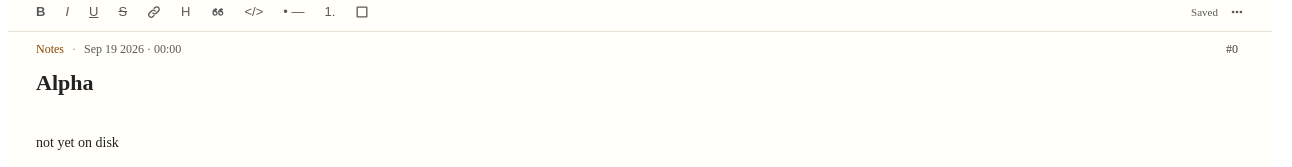
Test case: a failed local edit remains visibly unsaved when reopened, even if the older DB version is clean
(page scrolled)
Clear the field with class "editor-body" at (77, 142), box [36,135,119,150]
Wait 1500 ms
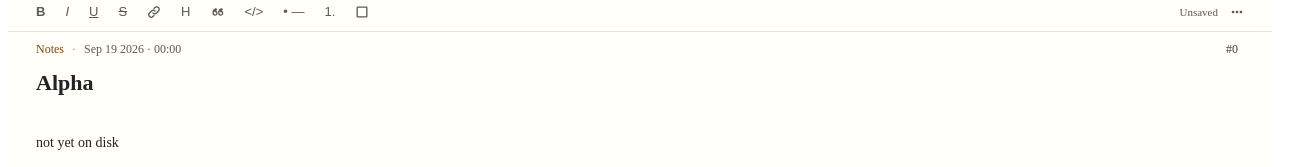
Check: the message with class "save-status" reads "Unsaved", box [1180,6,1218,18]
